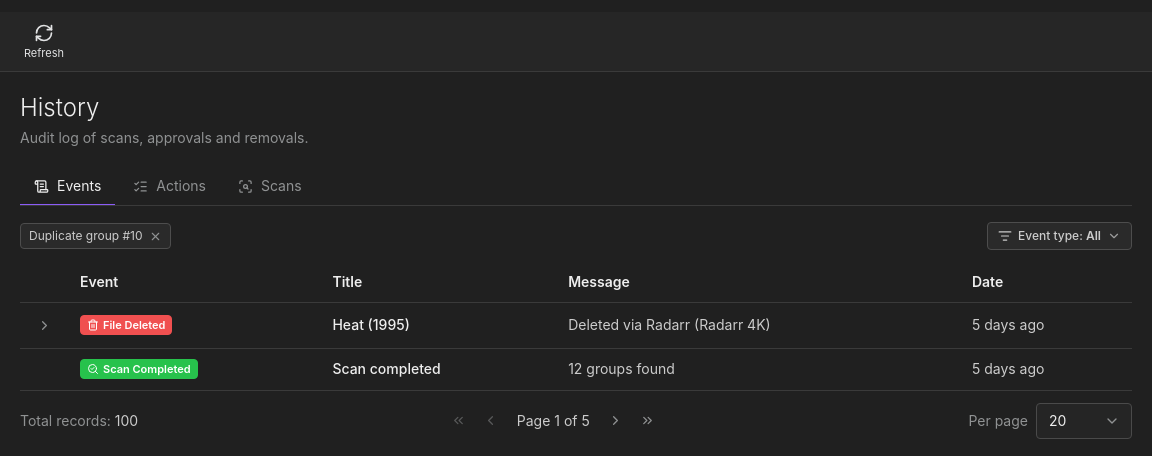
Scenario: <HistoryPage> events › limits events to a group from the url and clears the filter back to page 1
Expected: the text "Duplicate group #10" is shown, top-left (20, 223), bottom-right (171, 249)
Click the button named "Next page".
click(616, 420)  # box top-left (602, 406), bottom-right (630, 434)
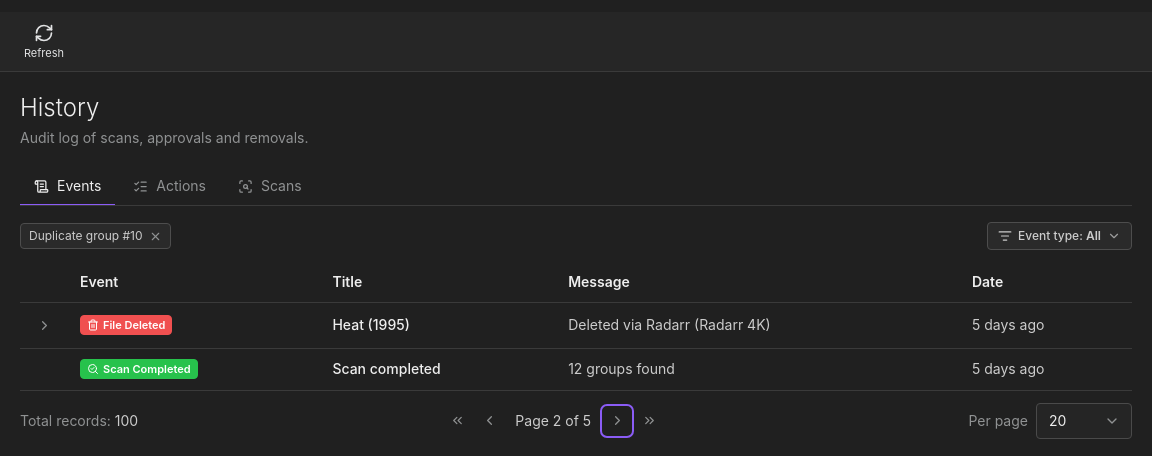
Click the button named "Clear group filter".
click(155, 236)  # box top-left (149, 230), bottom-right (162, 242)
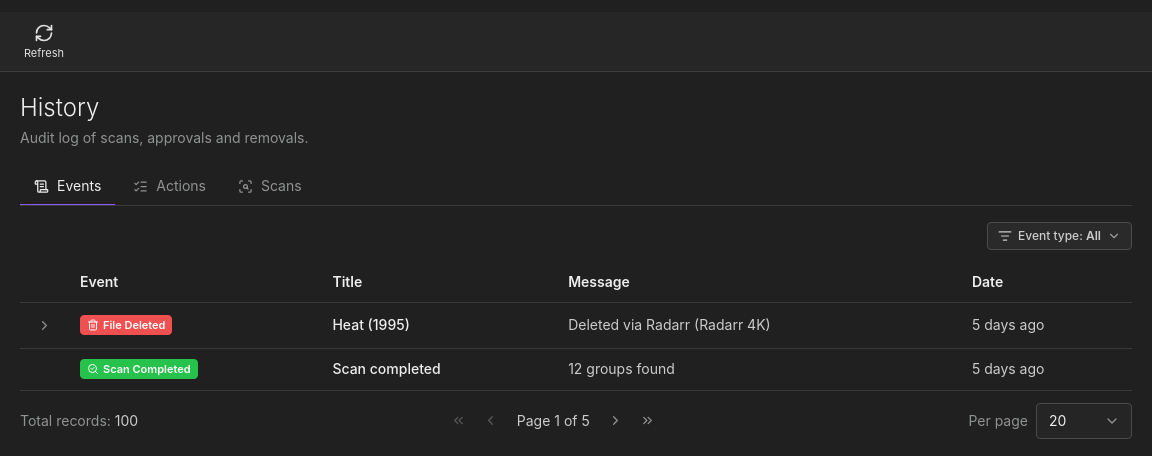
Now the text "Duplicate group #10" is gone
